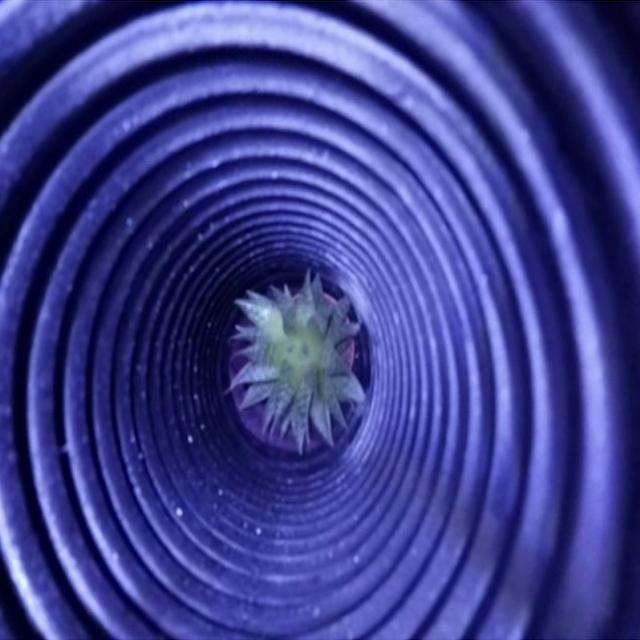leaf: (237, 281, 363, 454)
